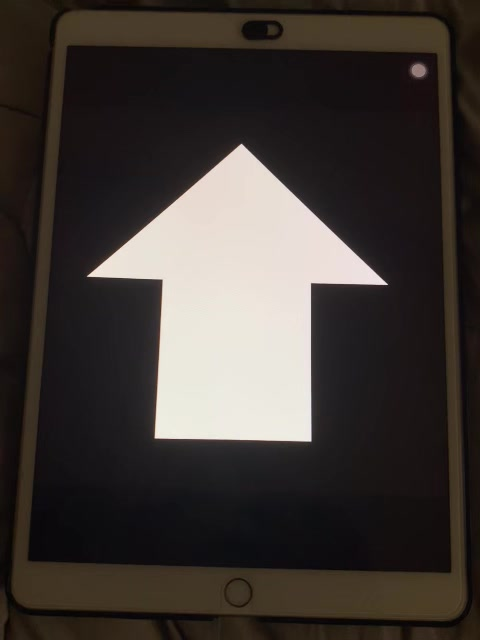up: (75, 137, 390, 449)
